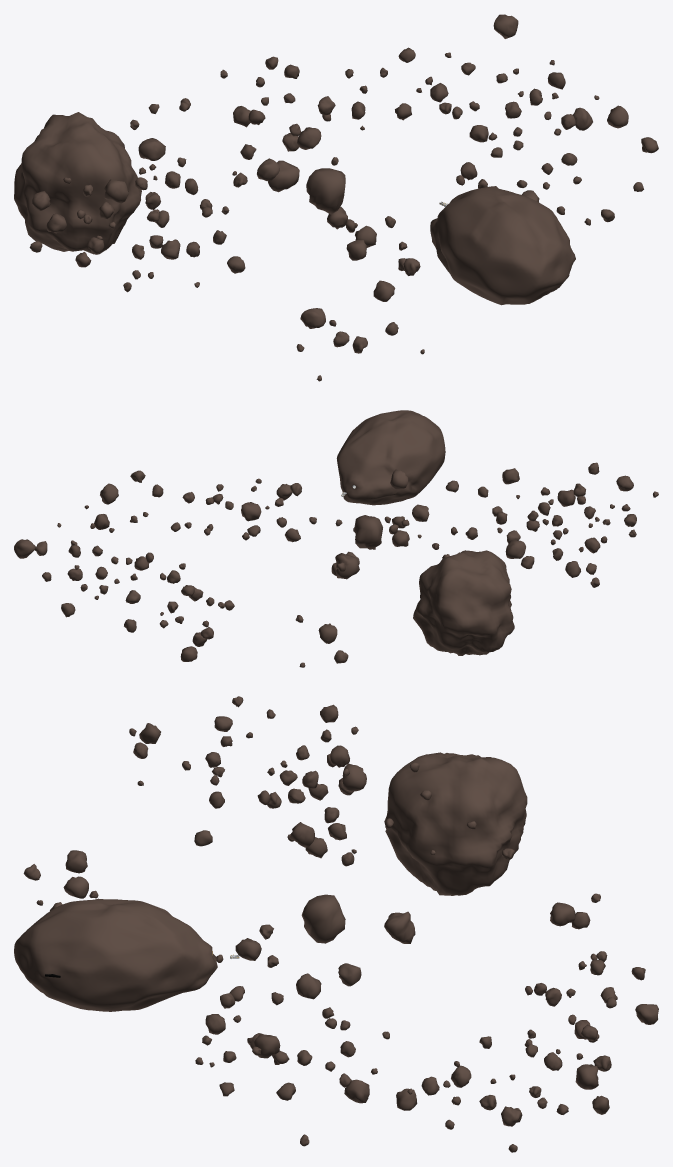
File: level.glb
3 renders of one model, top to bottom at view 1: azimuth 30°, elevation 25°; view 2: azimuth 150°, elevation 25°; view 3: azimuth 270°, elevation 25°, orthographic. The views are drawn at different scales.
Visible parts, largest first — view 1: Main Asteroid, Second Asteroid, Small Asteroid, Small Asteroid 2; view 2: Second Asteroid, Main Asteroid, Small Asteroid, Small Asteroid 2; view 3: Main Asteroid, Second Asteroid, Small Asteroid, Small Asteroid 2.
Boxes of the visible parts, <box> form: Main Asteroid: <box>430,186,575,305</box>; Second Asteroid: <box>14,112,141,254</box>; Small Asteroid: <box>306,168,345,214</box>; Small Asteroid 2: <box>268,160,299,192</box>; Second Asteroid: <box>413,550,514,655</box>; Main Asteroid: <box>336,410,445,505</box>; Small Asteroid: <box>354,515,382,548</box>; Small Asteroid 2: <box>335,553,359,579</box>; Main Asteroid: <box>14,898,217,1011</box>; Second Asteroid: <box>384,752,527,895</box>; Small Asteroid: <box>301,894,345,943</box>; Small Asteroid 2: <box>384,911,415,943</box>.
Size of what is drawn, in the model's own units: 375 by 86.82 by 321.
11 materials, 1 textured.
